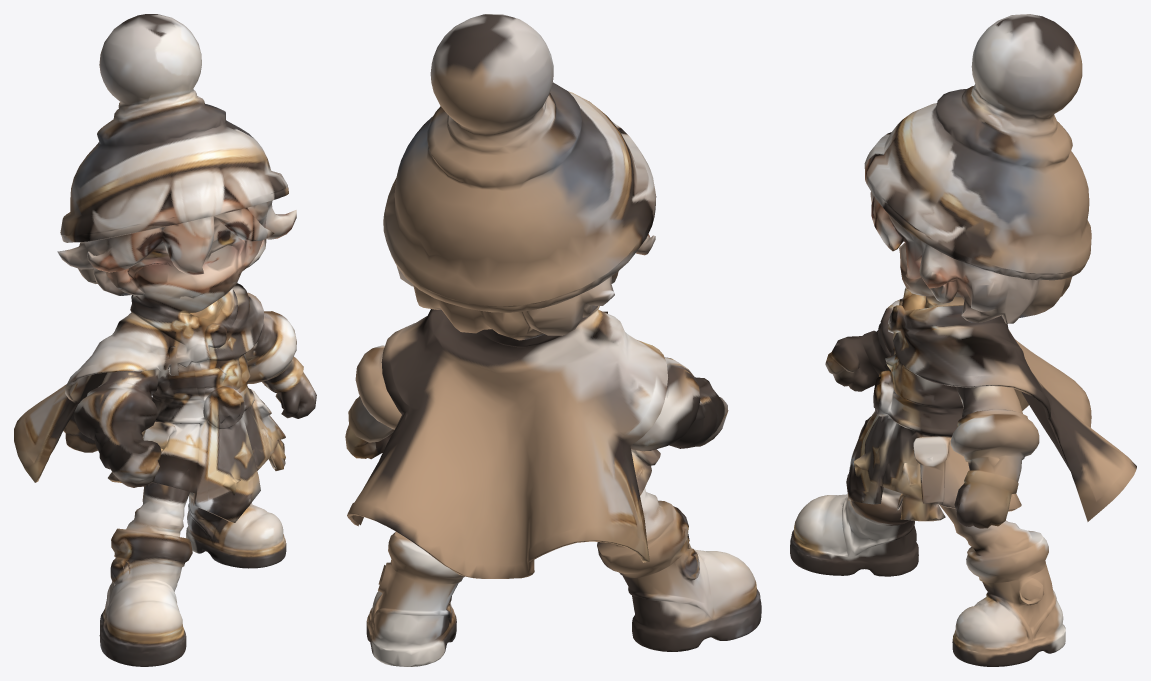
File: pawn_painted.glb
3 views of the same model, side by side, from view 1: azimuth 30°, elevation 25°; view 2: azimuth 150°, elevation 25°; view 3: azimuth 270°, elevation 25° (orthographic). The views are drawn at different scales.
Visible parts, largest first — view 1: Body; view 2: Body; view 3: Body.
Part boxes in pixels (x1,y1,x2,y2): Body: (14,14,316,666); Body: (345,14,761,666); Body: (790,14,1136,666).
Size of the model in its own units: 0.5193 by 0.9994 by 0.5338.
Materials: 1 (1 with a texture image).
